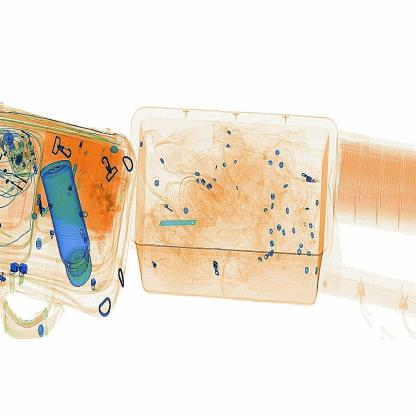pliers: (154, 218, 225, 237)
